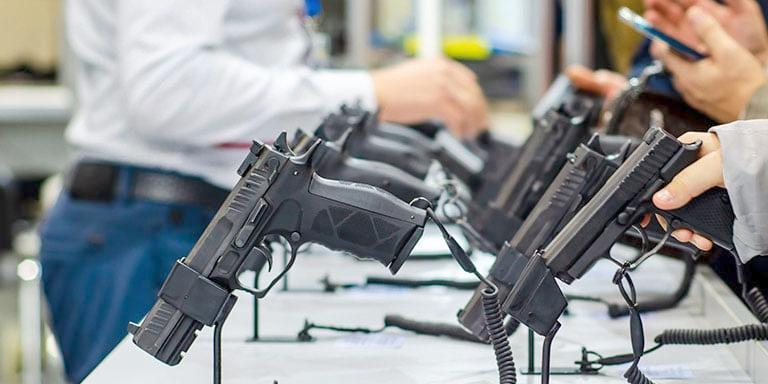gun: (131, 128, 431, 368), (536, 124, 738, 288)
